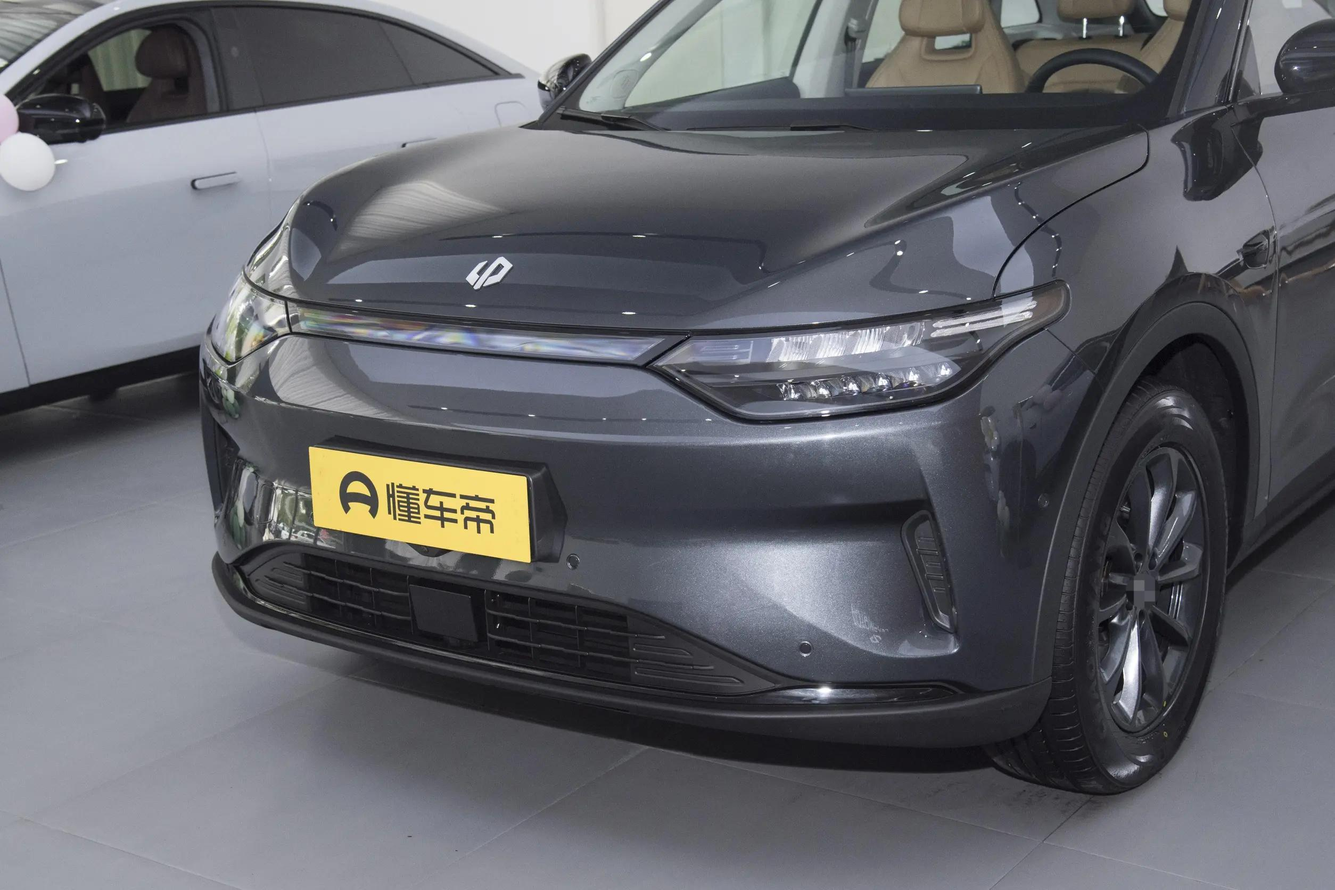LEAPMOTOR: (464, 256, 514, 292)
